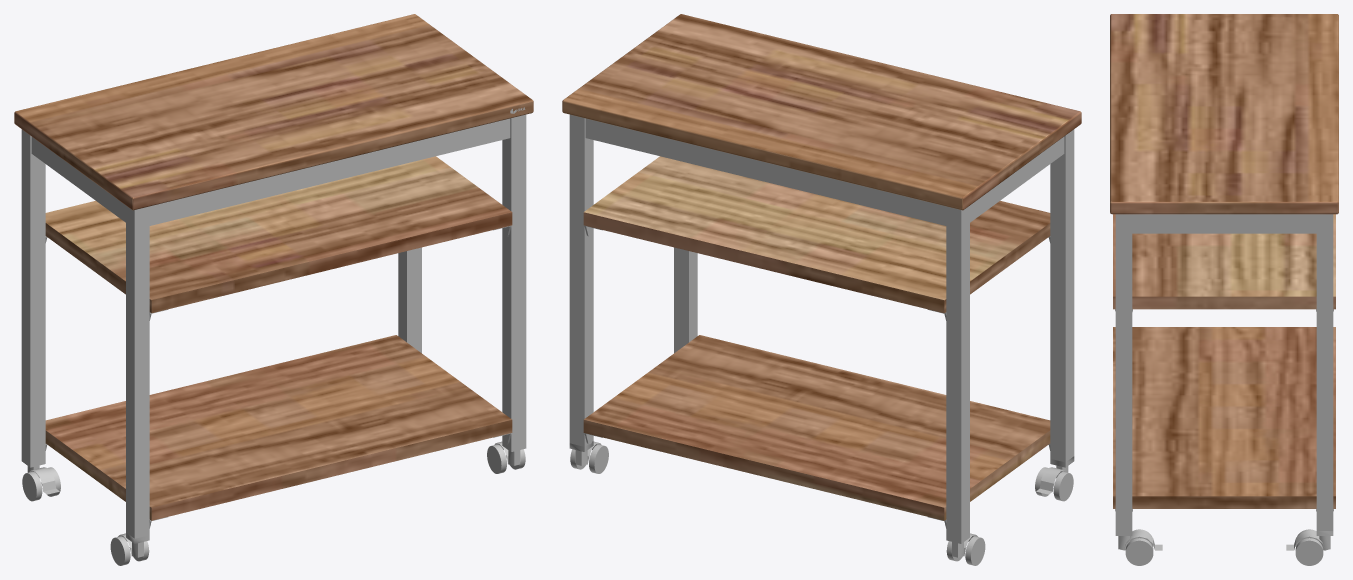
File: storage_80x41_fully_mobile_progress.fbx
The picture shows the model from 3 angles, left to right: view 1: azimuth 30°, elevation 25°; view 2: azimuth 150°, elevation 25°; view 3: azimuth 270°, elevation 25°; orthographic projection. The views are drawn at different scales.
Parts seen in each view (by area): view 1: drewno_mesh, metal_mesh, wheels_mesh; view 2: drewno_mesh, metal_mesh, wheels_mesh; view 3: drewno_mesh, metal_mesh, wheels_mesh.
Boxes of the visible parts, x1,y1,x2,y2 form: drewno_mesh: [14, 14, 533, 520]; metal_mesh: [21, 107, 526, 538]; wheels_mesh: [21, 441, 526, 565]; drewno_mesh: [562, 14, 1081, 520]; metal_mesh: [569, 114, 1074, 538]; wheels_mesh: [569, 441, 1074, 565]; drewno_mesh: [1110, 14, 1338, 508]; metal_mesh: [1115, 214, 1333, 530]; wheels_mesh: [1115, 529, 1333, 565].
Bounding box in the file's own units: 80 × 72 × 41.01.
